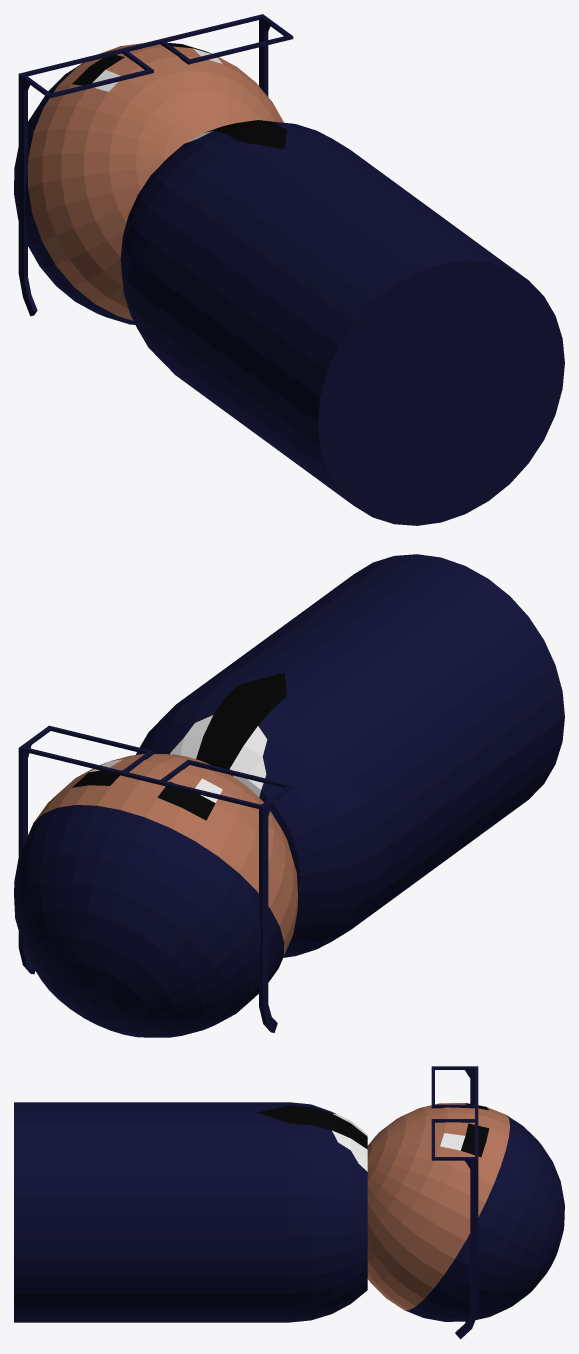
The model's file is PlayerModel_GhostGame1.fbx.
3 renders of one model, top to bottom at view 1: azimuth 30°, elevation 25°; view 2: azimuth 150°, elevation 25°; view 3: azimuth 270°, elevation 25°, orthographic. The views are drawn at different scales.
Parts seen in each view (by area): view 1: Body, SimpleHead, GlassesFinalized; view 2: Body, SimpleHead, GlassesFinalized; view 3: Body, SimpleHead, GlassesFinalized.
Part boxes in pixels (x1,y1,x2,y2): Body: (120,120,564,525); SimpleHead: (14,42,283,324); GlassesFinalized: (18,14,293,316); Body: (136,554,564,957); SimpleHead: (14,754,297,1037); GlassesFinalized: (18,725,293,1032); Body: (14,1102,367,1322); SimpleHead: (367,1103,564,1321); GlassesFinalized: (431,1066,478,1339).
Size of the model in its own units: 200 by 200 by 500.
